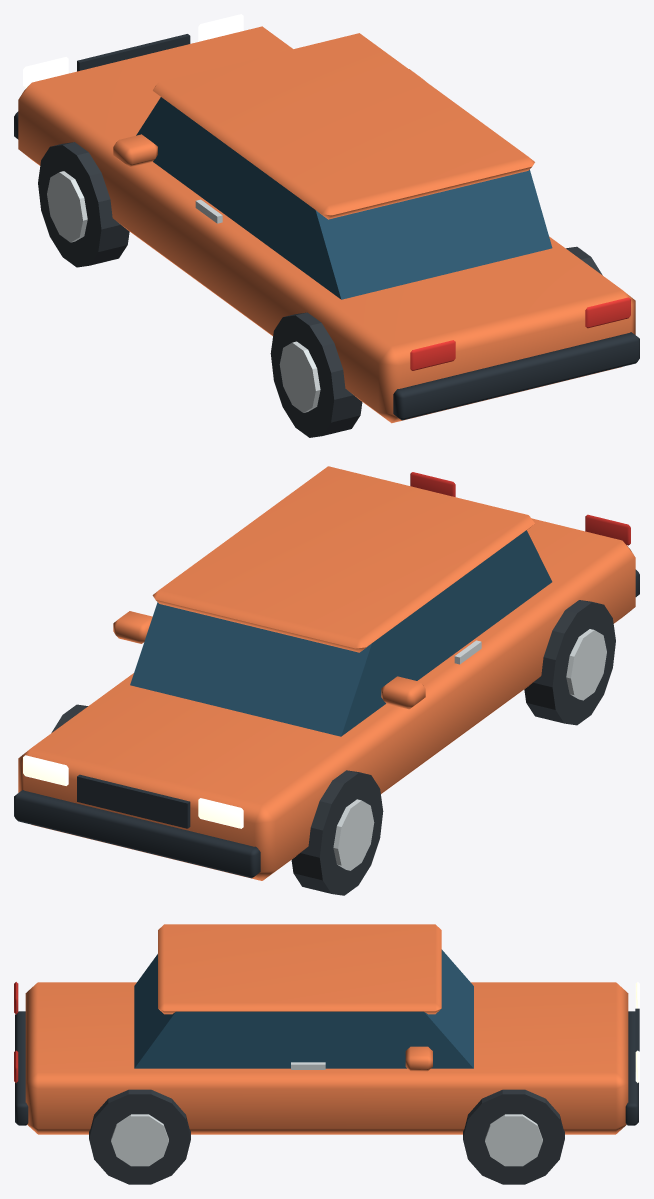
Rendered from car_sedan.glb.
3 renders of one model, top to bottom at view 1: azimuth 30°, elevation 25°; view 2: azimuth 150°, elevation 25°; view 3: azimuth 270°, elevation 25°, orthographic. The views are drawn at different scales.
Parts seen in each view (by area): view 1: car_sedan_lower, car_sedan_roof, car_sedan_glasshouse, car_sedan_rear_bumper, car_sedan_tire.001, car_sedan_tire, car_sedan_hub, car_sedan_hub.001, car_sedan_grille, car_sedan_mirror, car_sedan_taillamp.001, car_sedan_taillamp (+2 smaller); view 2: car_sedan_lower, car_sedan_roof, car_sedan_glasshouse, car_sedan_front_bumper, car_sedan_tire, car_sedan_tire.001, car_sedan_grille, car_sedan_hub.001, car_sedan_hub, car_sedan_mirror, car_sedan_headlamp.001, car_sedan_headlamp (+3 smaller); view 3: car_sedan_lower, car_sedan_roof, car_sedan_glasshouse, car_sedan_tire.002, car_sedan_tire.003, car_sedan_hub.002, car_sedan_hub.003, car_sedan_rear_bumper, car_sedan_front_bumper, car_sedan_mirror.001.
Part boxes in pixels (<box>): car_sedan_lower: <box>18,26,635,423</box>; car_sedan_roof: <box>153,33,534,219</box>; car_sedan_glasshouse: <box>136,97,552,299</box>; car_sedan_rear_bumper: <box>393,332,639,420</box>; car_sedan_tire.001: <box>38,142,129,267</box>; car_sedan_tire: <box>270,312,362,437</box>; car_sedan_hub: <box>279,341,320,412</box>; car_sedan_hub.001: <box>47,171,87,242</box>; car_sedan_grille: <box>77,34,190,71</box>; car_sedan_mirror: <box>113,134,157,167</box>; car_sedan_taillamp.001: <box>585,297,630,328</box>; car_sedan_taillamp: <box>410,340,455,370</box>; car_sedan_lower: <box>18,518,635,880</box>; car_sedan_roof: <box>152,466,534,652</box>; car_sedan_glasshouse: <box>130,530,552,736</box>; car_sedan_front_bumper: <box>14,790,260,878</box>; car_sedan_tire: <box>524,600,615,725</box>; car_sedan_tire.001: <box>291,770,383,895</box>; car_sedan_grille: <box>77,774,190,828</box>; car_sedan_hub.001: <box>333,799,374,870</box>; car_sedan_hub: <box>566,629,606,700</box>; car_sedan_mirror: <box>381,676,425,709</box>; car_sedan_headlamp.001: <box>23,755,68,785</box>; car_sedan_headlamp: <box>198,798,243,828</box>; car_sedan_lower: <box>25,982,628,1134</box>; car_sedan_roof: <box>158,924,441,1014</box>; car_sedan_glasshouse: <box>134,949,473,1068</box>; car_sedan_tire.002: <box>89,1089,190,1184</box>; car_sedan_tire.003: <box>463,1089,564,1184</box>; car_sedan_hub.002: <box>111,1114,168,1166</box>; car_sedan_hub.003: <box>485,1114,542,1166</box>; car_sedan_rear_bumper: <box>15,1011,28,1125</box>; car_sedan_front_bumper: <box>625,1011,638,1125</box>; car_sedan_mirror.001: <box>405,1046,432,1071</box>.
Size of the model in its own units: 2.25 by 1.47 by 5.04.
